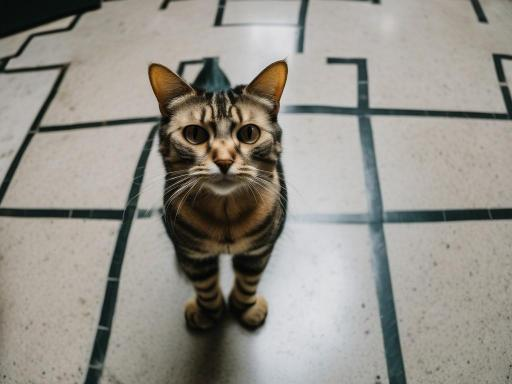cat_standing: (148, 60, 286, 329)
